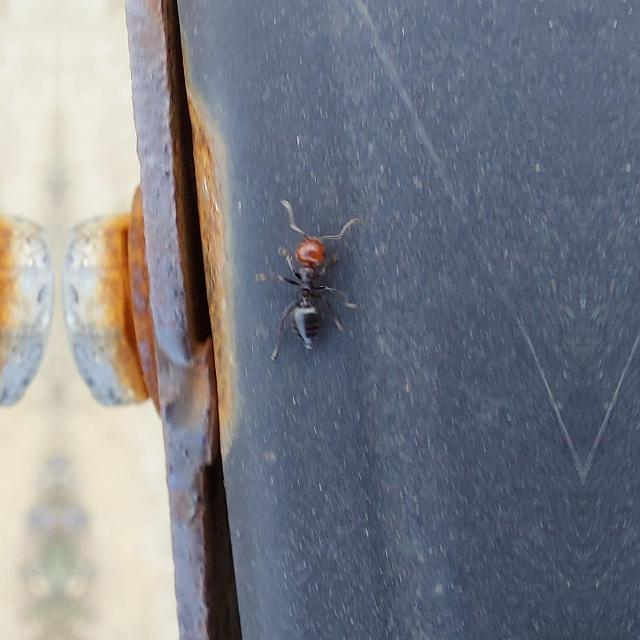Crematogaster: (273, 221, 347, 349)
